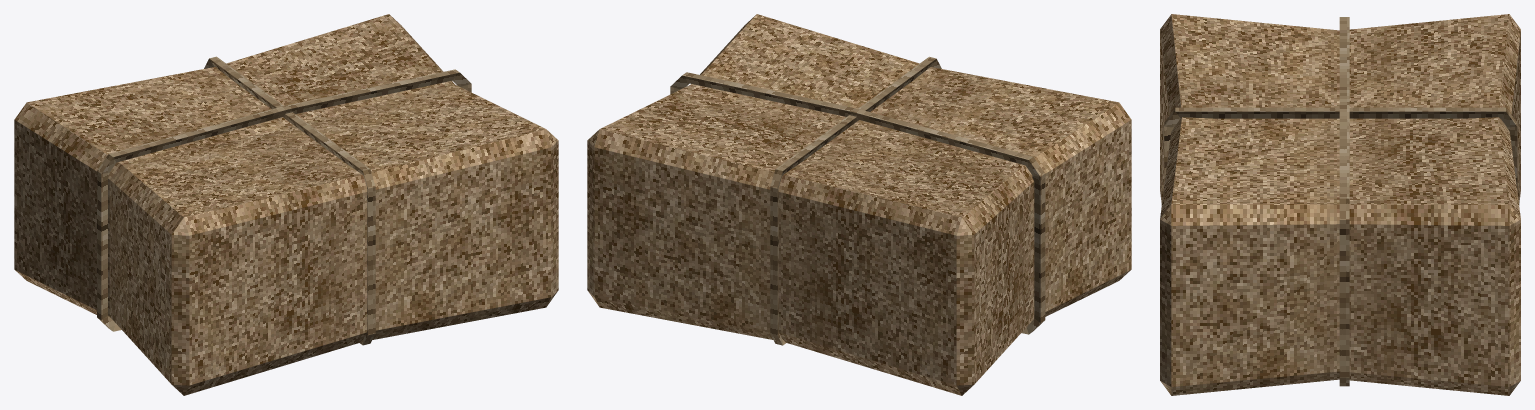
The model's file is haybale_wrapped_alt.glb.
3 renders of one model, left to right at view 1: azimuth 30°, elevation 25°; view 2: azimuth 150°, elevation 25°; view 3: azimuth 270°, elevation 25°, orthographic. The views are drawn at different scales.
Visible parts, largest first — view 1: haybale_wrapped_alt; view 2: haybale_wrapped_alt; view 3: haybale_wrapped_alt.
Boxes of the visible parts, x1,y1,x2,y2 form: haybale_wrapped_alt: (14,14,558,395); haybale_wrapped_alt: (587,14,1131,395); haybale_wrapped_alt: (1160,14,1520,395).
Size of the model in its own units: 1.8 by 0.8255 by 1.35.
2 materials, 2 textured.
